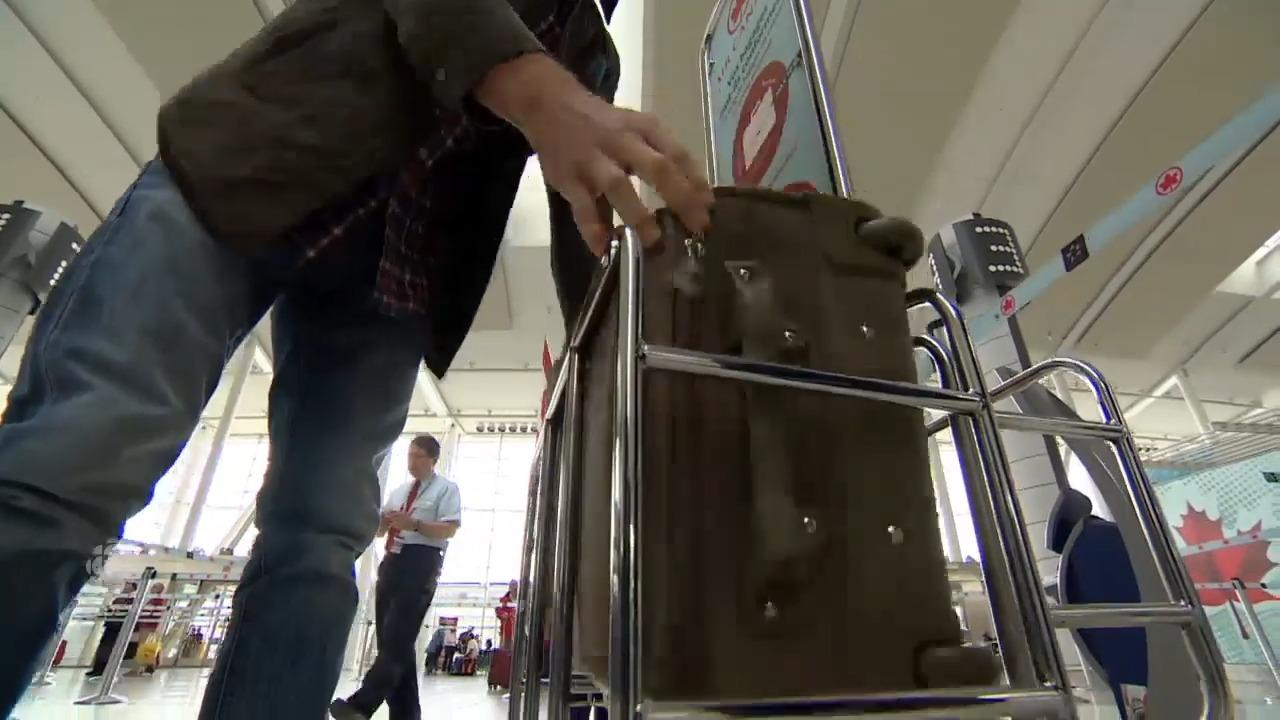luggage: (529, 176, 1005, 704), (487, 648, 513, 692), (461, 655, 477, 677), (450, 656, 464, 677)
